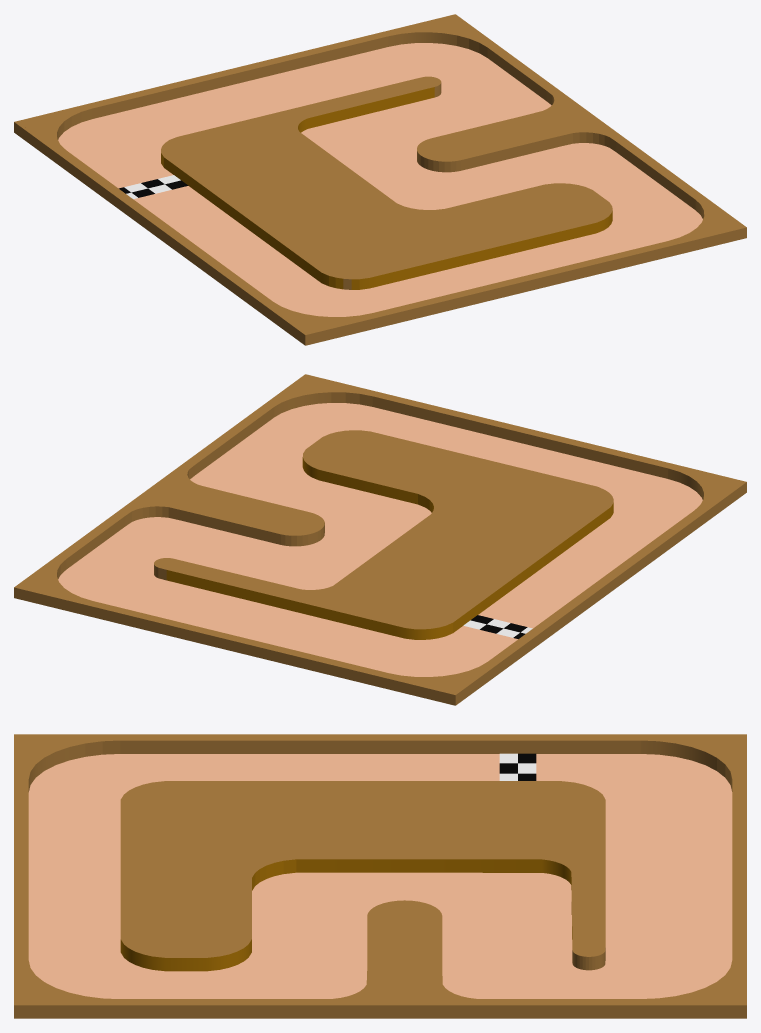
File: temporario_teste.fbx
3 views of the same model, one above another, from view 1: azimuth 30°, elevation 25°; view 2: azimuth 150°, elevation 25°; view 3: azimuth 270°, elevation 25° (orthographic). The views are drawn at different scales.
Visible parts, largest first — view 1: Plane.050, CurvasInts, PE3, CurvaExtra, CantosExts.002, meta; view 2: Plane.050, CurvasInts, PE3, CurvaExtra, CantosExts.002, meta; view 3: Plane.050, CurvasInts, PE3, CurvaExtra, CantosExts.002, meta.
Boxes of the visible parts, x1,y1,x2,y2 form: Plane.050: [58, 43, 702, 316]; CurvasInts: [161, 76, 612, 289]; PE3: [14, 14, 746, 345]; CurvaExtra: [417, 88, 616, 172]; CantosExts.002: [16, 18, 740, 328]; meta: [119, 175, 188, 199]; Plane.050: [58, 403, 702, 676]; CurvasInts: [154, 430, 613, 639]; PE3: [14, 374, 746, 705]; CurvaExtra: [115, 465, 324, 546]; CantosExts.002: [25, 375, 730, 693]; meta: [463, 615, 532, 638]; Plane.050: [28, 754, 732, 998]; CurvasInts: [120, 781, 605, 971]; PE3: [14, 734, 746, 1018]; CurvaExtra: [317, 900, 492, 1018]; CantosExts.002: [22, 735, 744, 1003]; meta: [499, 753, 536, 780].
Bounding box in the file's own units: 20846 × 490 × 23824.
